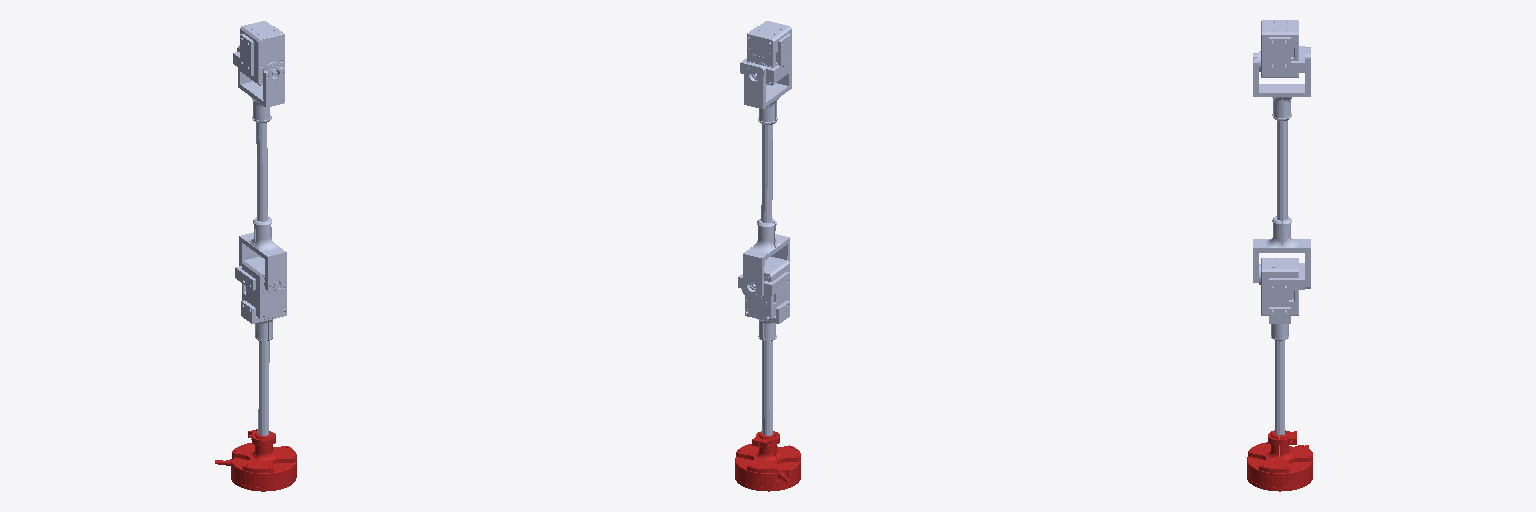
robot.urdf — Arm:
<?xml version="1.0" encoding="utf-8"?>
<!-- This URDF was automatically created by SolidWorks to URDF Exporter! Originally created by Stephen Brawner (brawner@gmail.com) 
     Commit Version: 1.6.0-4-g7f85cfe  Build Version: 1.6.7995.38578
     For more information, please see http://wiki.ros.org/sw_urdf_exporter -->
<robot name="Arm">
  <link name="base_link">
    <inertial>
      <origin xyz="0 0 0" rpy="0 0 0" />
      <mass value="0.08" />
      <inertia
        ixx="1.2988E-05"
        ixy="-2.8598E-14"
        ixz="2.3385E-17"
        iyy="9.0006E-06"
        iyz="-1.4322E-07"
        izz="1.263E-05" />
    </inertial>
    <visual>
      <origin xyz="0 0 0" rpy="0 0 0" />
      <geometry>
        <mesh filename="../meshes/base_link.STL" />
      </geometry>
      <material name="">
        <color rgba="0.79216 0.81961 0.93333 1" />
      </material>
    </visual>
    <collision>
      <origin xyz="0 0 0" rpy="0 0 0" />
      <geometry>
        <mesh filename="../meshes/base_link.STL" />
      </geometry>
    </collision>
  </link>

  <link name="Link1">
    <inertial>
      <origin xyz="-0.049919 -0.10242 -0.0083909" rpy="0 0 0" />
      <mass value="0.05" />
      <inertia
        ixx="1.4554E-05"
        ixy="-4.0614E-07"
        ixz="4.2464E-07"
        iyy="9.6663E-06"
        iyz="-1.3744E-06"
        izz="2.1973E-05" />
    </inertial>
    <visual>
      <origin xyz="0 0 0" rpy="0 0 0" />
      <geometry>
        <mesh filename="../meshes/Link1.STL" />
      </geometry>
      <material name="">
        <color rgba="0.79216 0.81961 0.93333 1" />
      </material>
    </visual>
    <collision>
      <origin xyz="0 0 0" rpy="0 0 0" />
      <geometry>
        <mesh filename="../meshes/Link1.STL" />
      </geometry>
    </collision>
  </link>

  <joint name="Servo1" type="continuous">
    <origin xyz="0.017875 -0.45598 -0.03525" rpy="1.454 -0.071221 1.5099" />
    <parent link="base_link" />
    <child link="Link1" />
    <axis xyz="0.99562 -0.063458 -0.068705" />
  </joint>

  <link name="Link2">
    <inertial>
      <origin xyz="-0.024424 0.023266 0.0028645" rpy="0 0 0" />
      <mass value="0.30" />
      <inertia
        ixx="3.2133E-05"
        ixy="-2.0616E-07"
        ixz="-3.1331E-08"
        iyy="3.3287E-05"
        iyz="4.8446E-07"
        izz="3.221E-05" />
    </inertial>
    <visual>
      <origin xyz="0 0 0" rpy="0 0 0" />
      <geometry>
        <mesh filename="../meshes/Link2.STL" />
      </geometry>
      <material name="">
        <color rgba="0.79216 0.81961 0.93333 1" />
      </material>
    </visual>
    <visual>
      <origin xyz="-0.0351 -0.30046 -0.052517" rpy="-0.26934 -1.4924 0.15686" />
      <geometry>
        <mesh filename="../meshes/Sensor.STL" />
      </geometry>
      <material name="">
        <color rgba="0.8 0.2 0.2 1" />
      </material>
    </visual>
    <collision>
      <origin xyz="0 0 0" rpy="0 0 0" />
      <geometry>
        <mesh filename="../meshes/Link2.STL" />
      </geometry>
    </collision>
    <collision>
      <origin xyz="-0.0351 -0.30046 -0.052517" rpy="-0.26934 -1.4924 0.15686" />
      <geometry>
        <mesh filename="../meshes/Sensor.STL" />
      </geometry>
    </collision>
  </link>

  <joint name="Servo2" type="continuous">
    <origin xyz="-0.034252 -0.20903 -0.021308" rpy="-3.0799 0.14156 -0.12292" />
    <parent link="Link1" />
    <child link="Link2" />
    <axis xyz="0.99562 -0.063458 -0.068705" />
  </joint>
</robot>

--- Render facts (derived) ---
3 views of the same robot in one strip: view 1: azimuth 30°, elevation 25°; view 2: azimuth 150°, elevation 25°; view 3: azimuth 270°, elevation 25° (orthographic).
Model Arm with 3 links and 2 joints (2 continuous), rooted at base_link, posed all joints at 0.
Links seen in each view (by area): view 1: Link2, Link1, base_link; view 2: Link2, Link1, base_link; view 3: Link2, Link1, base_link.
Boxes of the visible links, x1,y1,x2,y2 form: Link2: [215, 257, 296, 491]; Link1: [237, 45, 286, 290]; base_link: [233, 21, 284, 85]; Link2: [735, 257, 800, 491]; Link1: [742, 62, 791, 298]; base_link: [740, 21, 791, 85]; Link2: [1247, 258, 1312, 491]; Link1: [1253, 47, 1310, 288]; base_link: [1254, 20, 1304, 77].
Size in the robot's own frame: 0.0674 by 0.06 by 0.4503 metres.
Meshes: 4 distinct files referenced, 4 mesh visuals loaded (4 binary STL).
